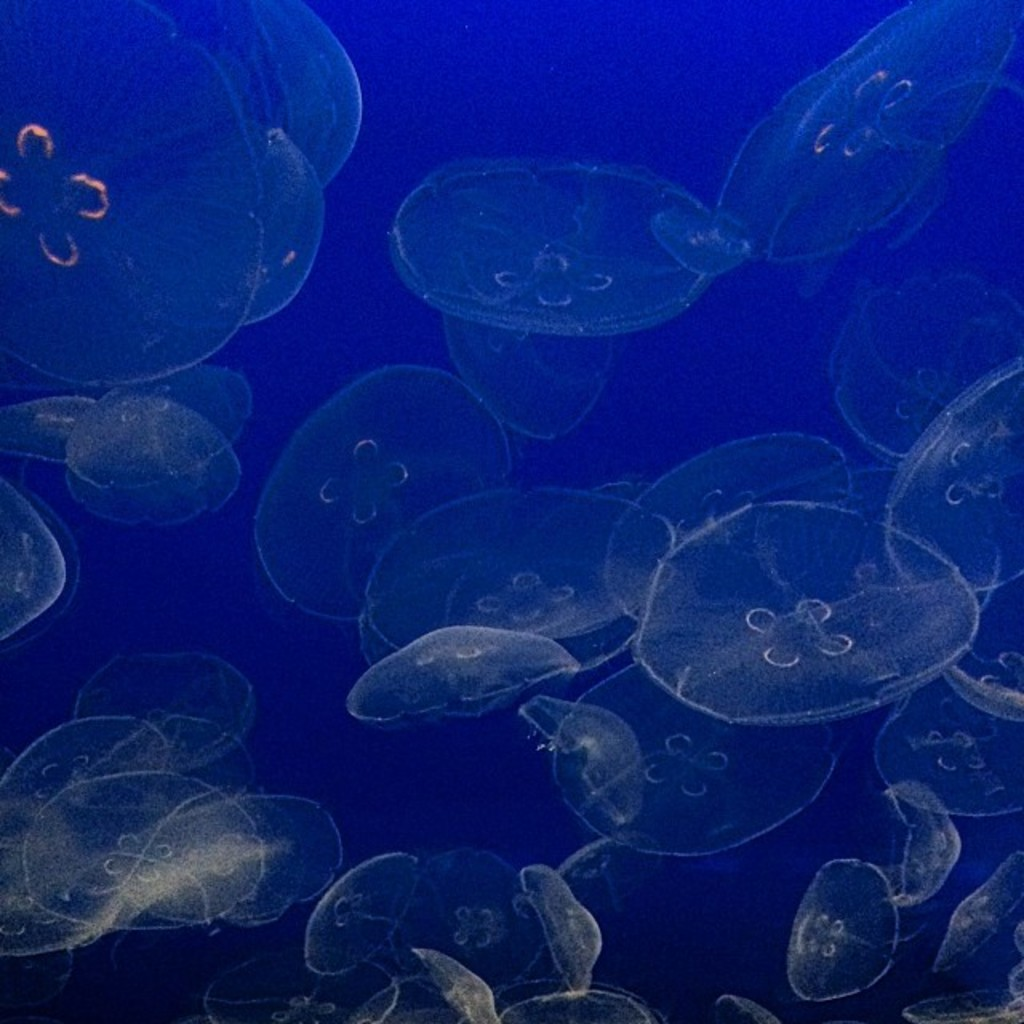Jellyfish: (0, 0, 1022, 1022), (0, 4, 363, 384)
